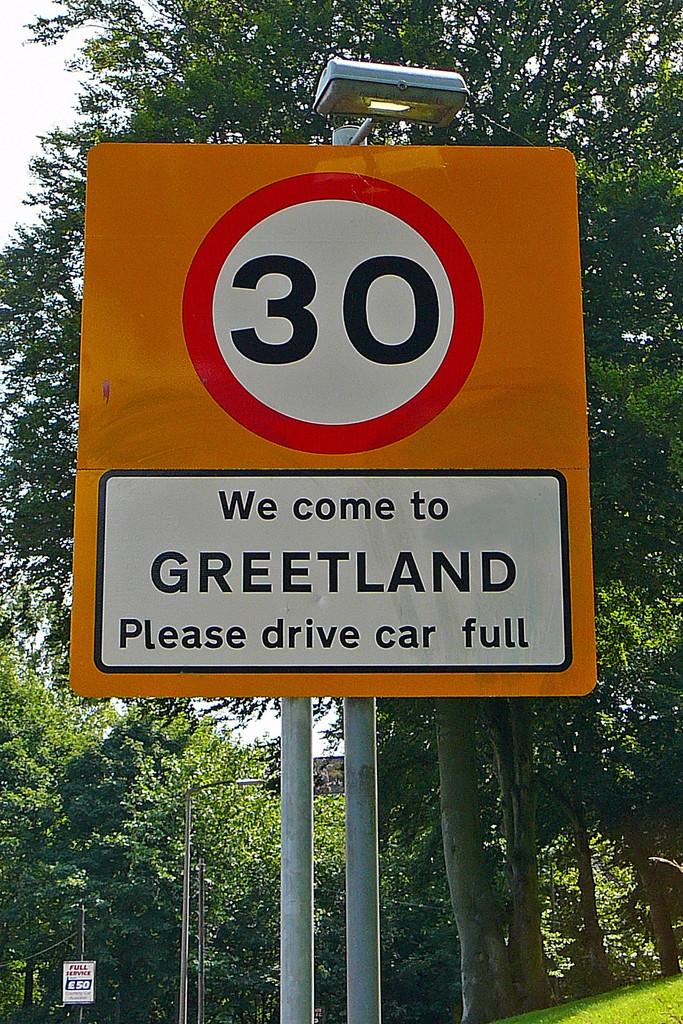speed_limit_30: (168, 169, 494, 459)
